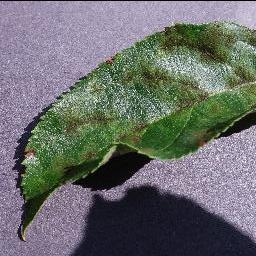apple healthy: (16, 18, 255, 240)
